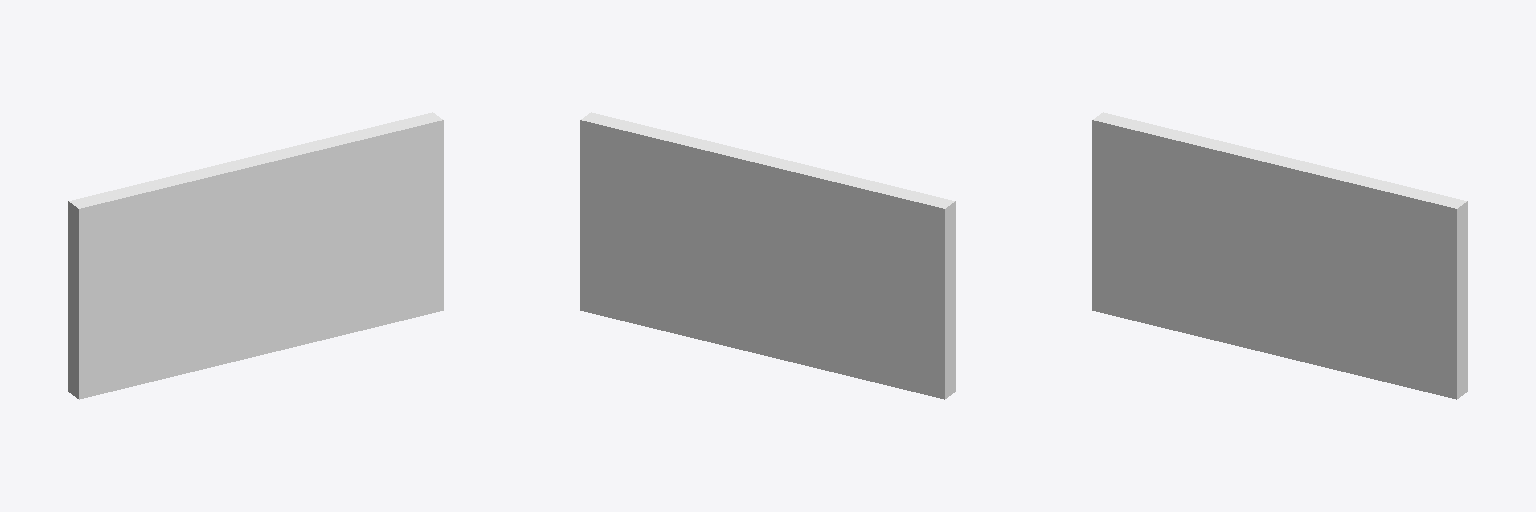
Rendered from settingPanel.obj.
3 renders of one model, left to right at view 1: azimuth 30°, elevation 25°; view 2: azimuth 150°, elevation 25°; view 3: azimuth 330°, elevation 25°, orthographic.
Visible parts, largest first — view 1: object 1; view 2: object 1; view 3: object 1.
Boxes of the visible parts, x1=… form: object 1: x1=68, y1=112, x2=443, y2=399; object 1: x1=580, y1=112, x2=955, y2=399; object 1: x1=1092, y1=112, x2=1467, y2=399.
Bounding box in the file's own units: 8 × 4 × 0.4.